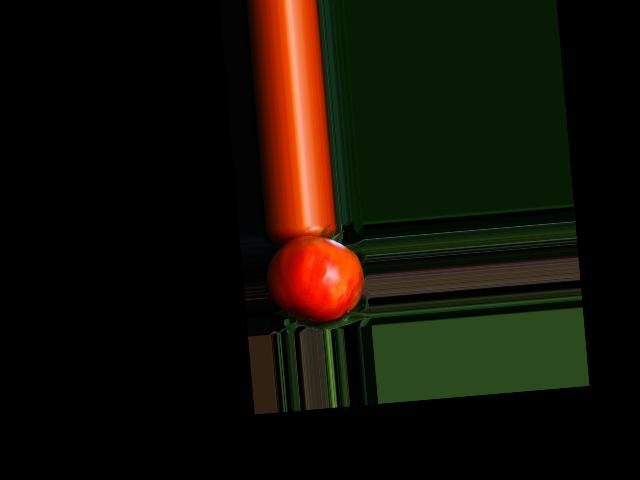tomato: (263, 232, 366, 325)
